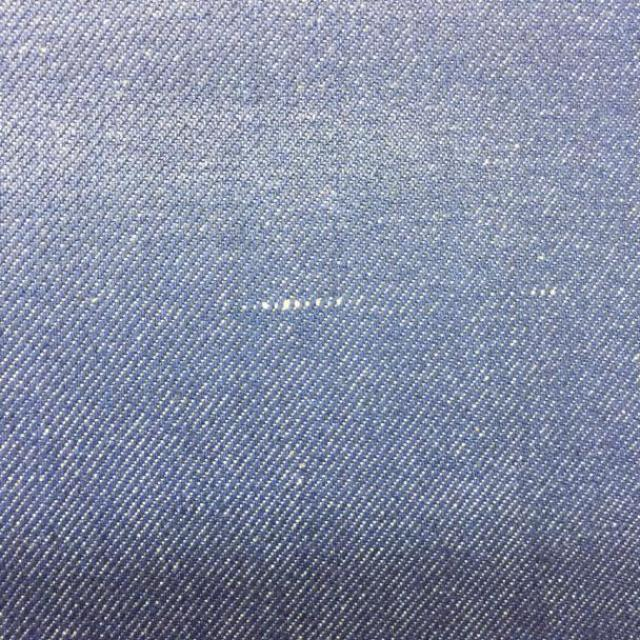Knot: (242, 296, 365, 313), (488, 285, 568, 298)
